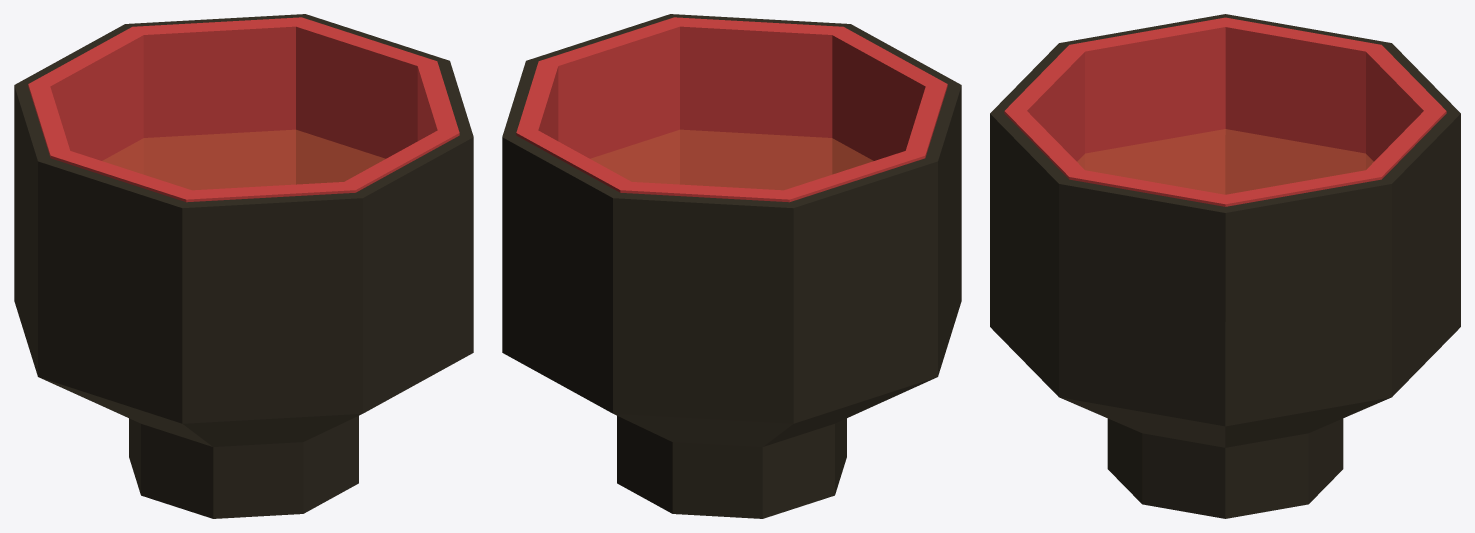
File: WAZIMANURI-2.fbx
The picture shows the model from 3 angles, left to right: view 1: azimuth 30°, elevation 25°; view 2: azimuth 150°, elevation 25°; view 3: azimuth 270°, elevation 25°; orthographic projection.
Parts seen in each view (by area): view 1: 円柱.026, 円柱.028, 円柱.027; view 2: 円柱.026, 円柱.028, 円柱.027; view 3: 円柱.026, 円柱.028, 円柱.027.
Part boxes in pixels (x1,y1,x2,y2): 円柱.026: (14,14,473,518); 円柱.028: (28,17,459,202); 円柱.027: (102,129,385,190); 円柱.026: (502,14,961,518); 円柱.028: (516,17,947,202); 円柱.027: (590,129,873,190); 円柱.026: (990,14,1460,518); 円柱.028: (1004,17,1446,206); 円柱.027: (1077,129,1373,194).
Size of the model in its own units: 1200 by 1007 by 1200.
